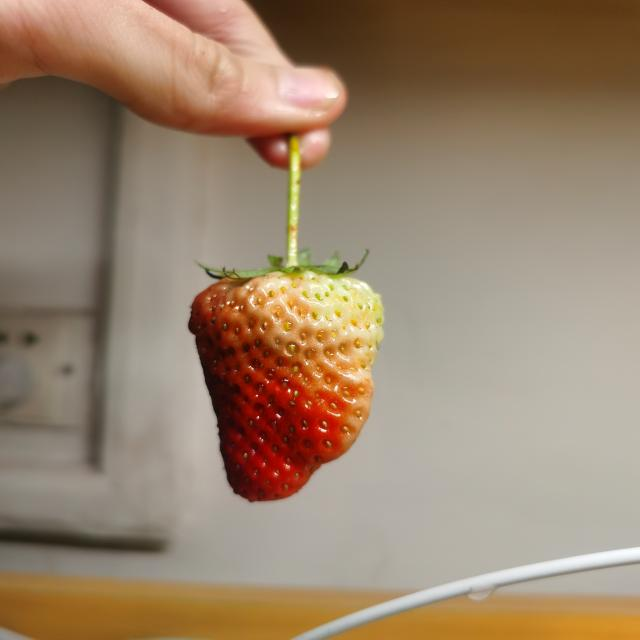stem: (286, 178, 300, 271)
strawberry: (188, 266, 385, 501)
